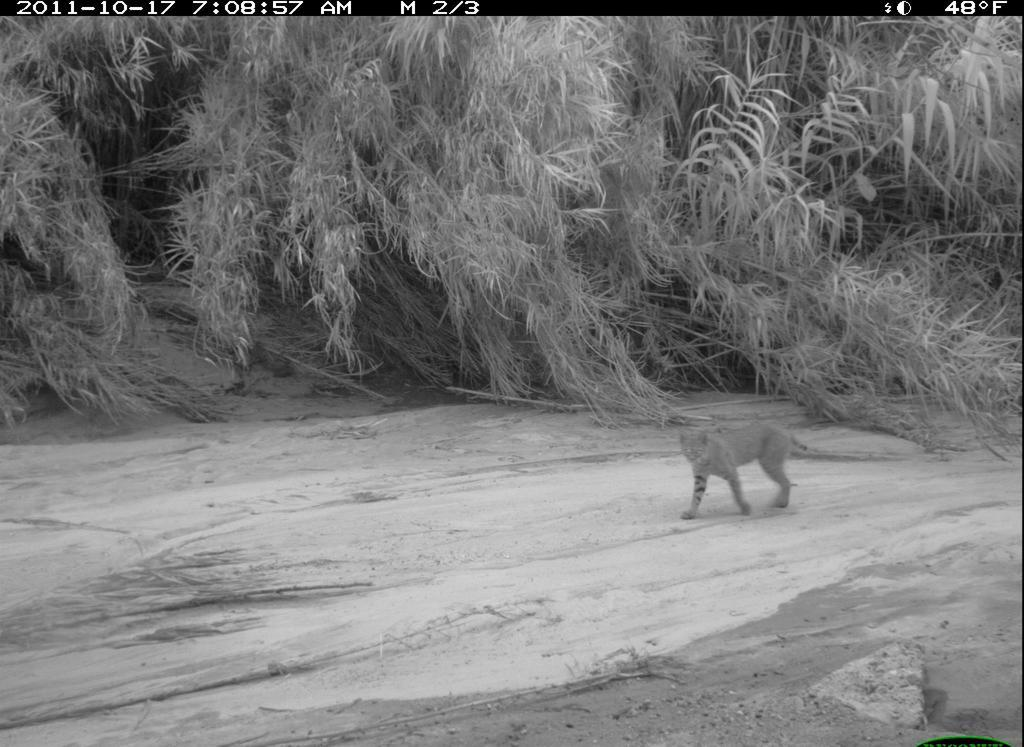bobcat: (670, 414, 818, 525)
